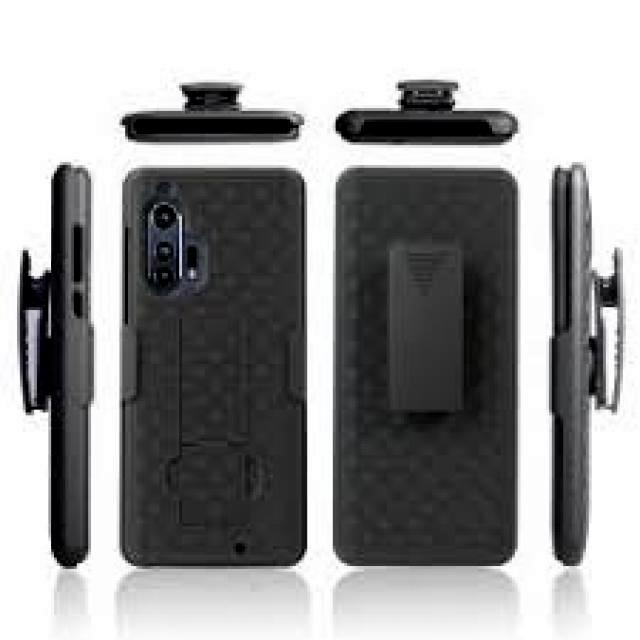lens_back: (148, 204, 181, 235), (144, 266, 182, 292), (148, 242, 180, 267)
phone: (336, 158, 520, 568)
